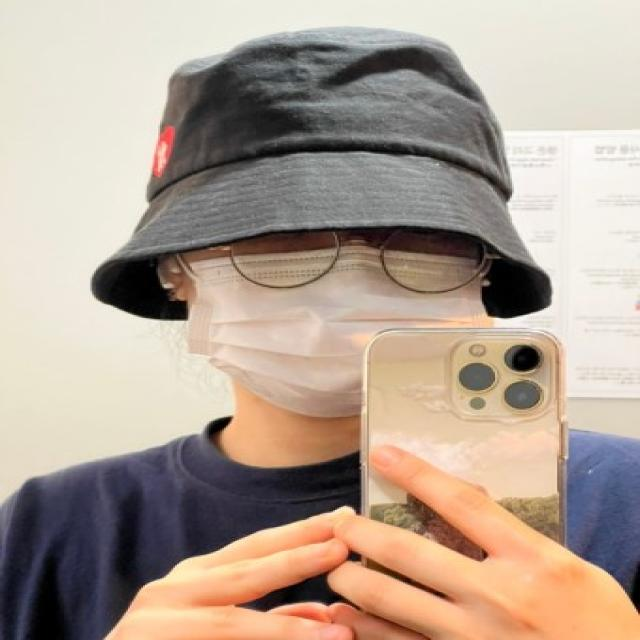hat: (79, 23, 561, 336)
